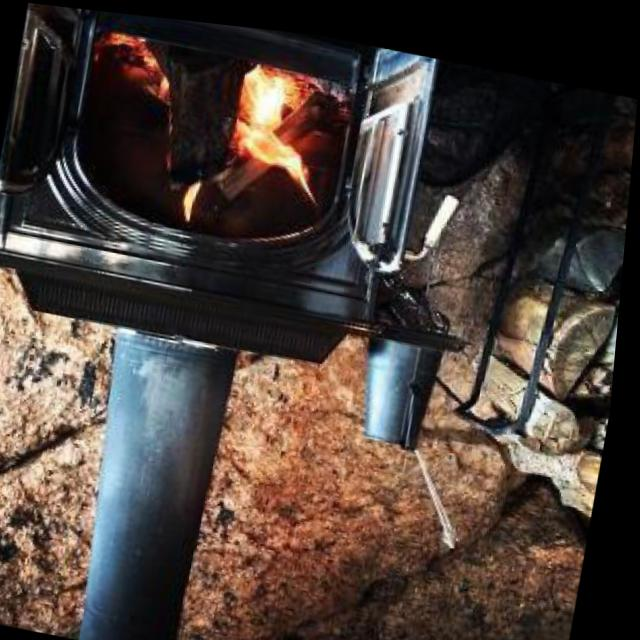Fire: (213, 55, 343, 238), (92, 18, 188, 114)
